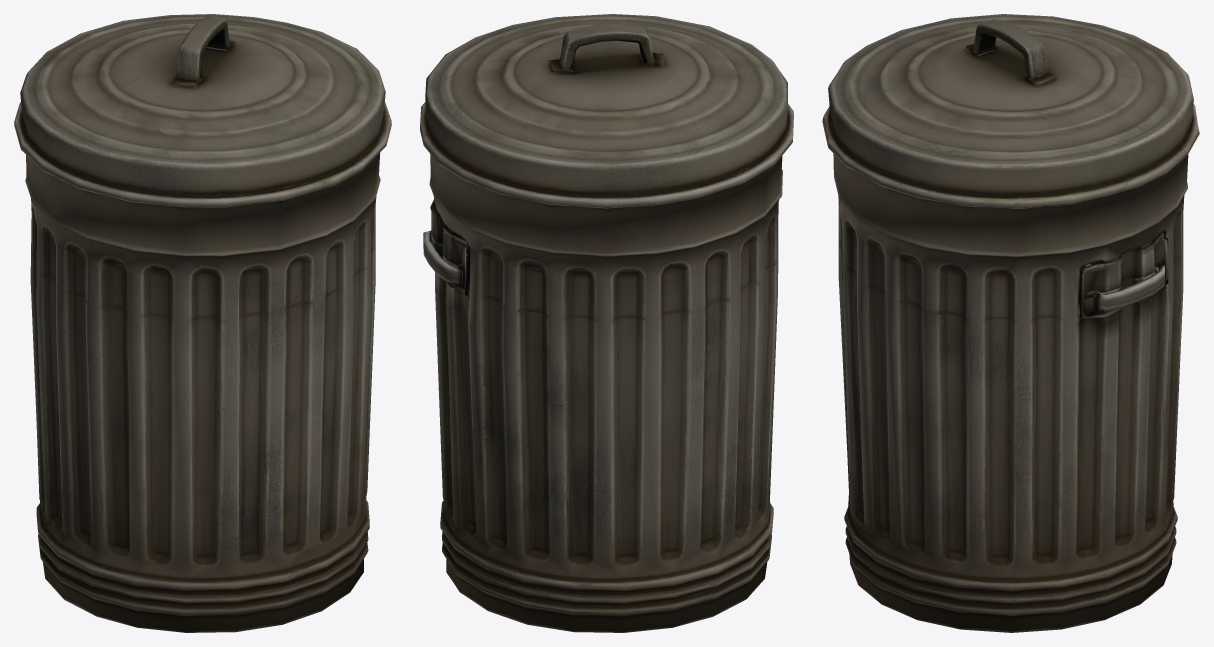
File: cop_kutusu.glb
3 views of the same model, side by side, from view 1: azimuth 30°, elevation 25°; view 2: azimuth 150°, elevation 25°; view 3: azimuth 270°, elevation 25° (orthographic).
Visible parts, largest first — view 1: tripo_node_8ec6f18c-3b15-477f-9d5f-8dde256c5fa3; view 2: tripo_node_8ec6f18c-3b15-477f-9d5f-8dde256c5fa3; view 3: tripo_node_8ec6f18c-3b15-477f-9d5f-8dde256c5fa3.
Part boxes in pixels (bbox=[...]): tripo_node_8ec6f18c-3b15-477f-9d5f-8dde256c5fa3: bbox=[14, 14, 391, 632]; tripo_node_8ec6f18c-3b15-477f-9d5f-8dde256c5fa3: bbox=[420, 14, 793, 632]; tripo_node_8ec6f18c-3b15-477f-9d5f-8dde256c5fa3: bbox=[822, 14, 1199, 632].
Bounding box in the file's own units: 0.6233 × 0.9781 × 0.6233.
Materials: 1 (1 with a texture image).
